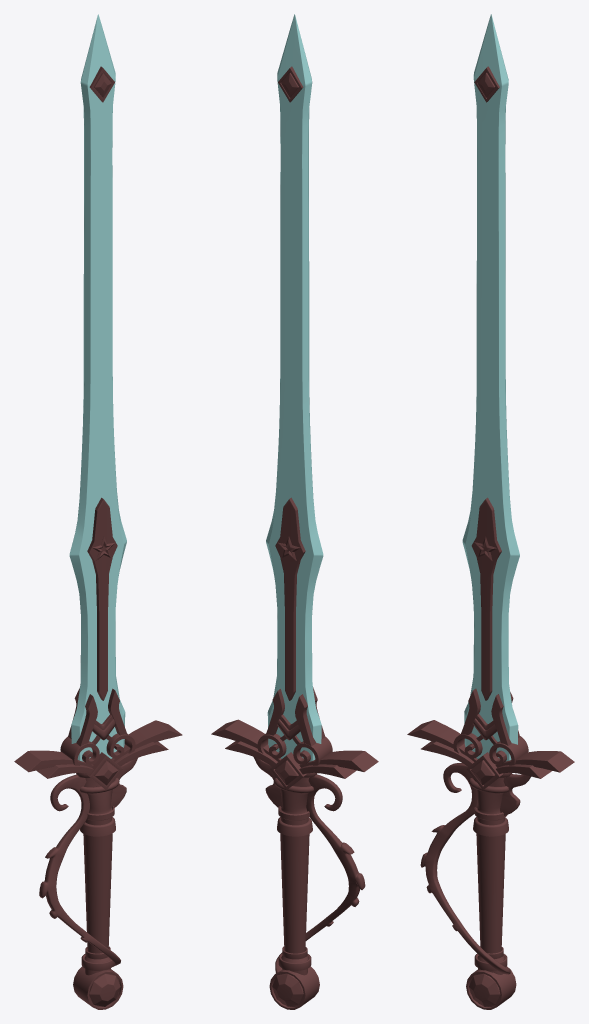
Rendered from Espada_low.fbx.
The picture shows the model from 3 angles, left to right: view 1: azimuth 30°, elevation 25°; view 2: azimuth 150°, elevation 25°; view 3: azimuth 330°, elevation 25°; orthographic projection.
Parts seen in each view (by area): view 1: Hoja_low, Mango_low, Guarda2_low, Pieza2_low, Pieza7_low, Pieza9_low, Pieza13_low, Gema3_low, Espiral2_low, Pieza10_low, Pieza3_low, Pieza6_low (+4 smaller); view 2: Hoja_low, Mango_low, Pieza2_low, Guarda2_low, Pieza7_low, Pieza9_low, Pieza13_low, Gema1_low, Espiral2_low, Pieza10_low, Pieza3_low, Espiral1_Low (+4 smaller); view 3: Hoja_low, Mango_low, Pieza2_low, Guarda2_low, Pieza9_low, Pieza7_low, Pieza13_low, Gema3_low, Espiral1_Low, Guarda1_low, Pieza4_low, Pieza6_low (+4 smaller).
Boxes of the visible parts, x1,y1,x2,y2 form: Hoja_low: (69,14,126,761); Mango_low: (80,778,115,975); Guarda2_low: (39,774,120,966); Pieza2_low: (87,497,117,700); Pieza7_low: (14,750,93,772); Pieza9_low: (111,720,182,761); Pieza13_low: (73,966,123,1009); Gema3_low: (89,973,120,1006); Espiral2_low: (60,736,99,765); Pieza10_low: (68,688,97,746); Pieza3_low: (36,764,93,778); Pieza6_low: (115,741,168,766); Hoja_low: (266,14,323,761); Mango_low: (277,777,312,975); Pieza2_low: (275,497,305,700); Guarda2_low: (275,774,365,972); Pieza7_low: (299,750,378,771); Pieza9_low: (211,719,281,761); Pieza13_low: (269,966,319,1009); Gema1_low: (272,973,303,1006); Espiral2_low: (293,737,332,765); Pieza10_low: (295,687,325,746); Pieza3_low: (299,764,356,778); Espiral1_Low: (257,733,286,758); Hoja_low: (462,14,519,761); Mango_low: (473,777,508,974); Pieza2_low: (471,497,501,700); Guarda2_low: (420,763,510,974); Pieza9_low: (495,751,574,772); Pieza7_low: (407,720,477,761); Pieza13_low: (466,966,516,1009); Gema3_low: (469,973,500,1006); Espiral1_Low: (489,736,528,765); Guarda1_low: (500,774,531,815); Pieza4_low: (491,692,519,745); Pieza6_low: (496,764,552,778).
Bounding box in the file's own units: 3.19 × 19.6 × 0.8131.
